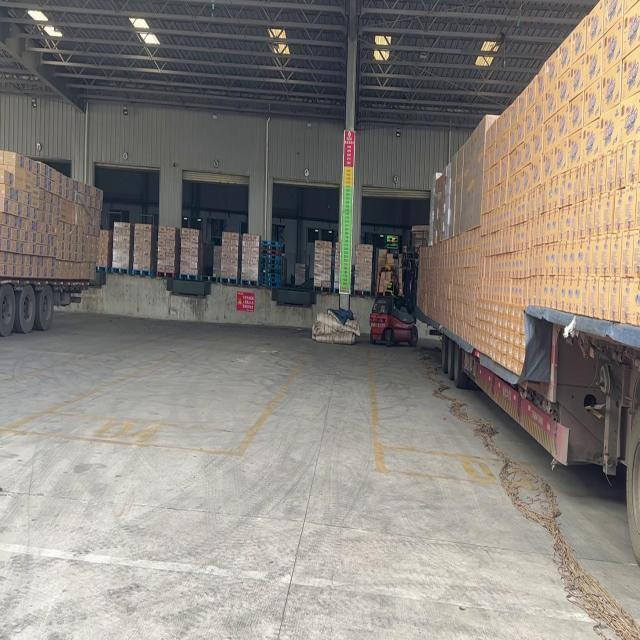forklift: (366, 255, 424, 356)
